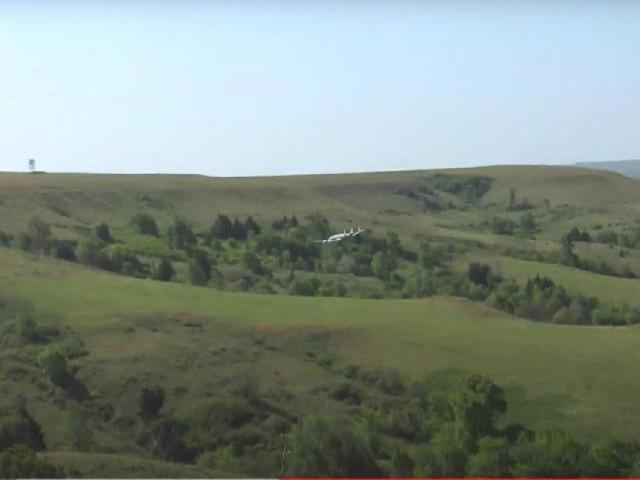iha: (313, 225, 365, 246)
